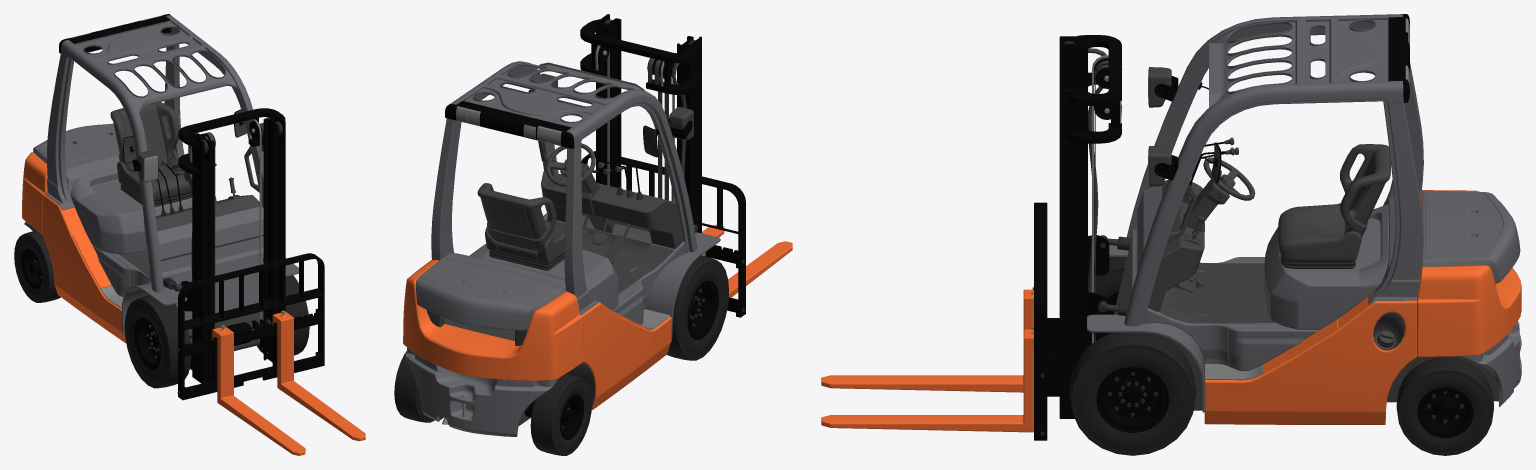
3 views of the same model, side by side, from view 1: azimuth 30°, elevation 25°; view 2: azimuth 150°, elevation 25°; view 3: azimuth 270°, elevation 25° (orthographic). The views are drawn at different scales.
Parts seen in each view (by area): view 1: AM98_011_forklift, AM98_011_forklift_carpaint_black, AM98_011_forklift_carpaint, AM98_011_forklift_black_plastic, AM98_011_forklift_rire_fr, AM98_011_forklift_tire_rr, AM98_011_forklift_rim_fr, AM98_011_forklift_tire_fl, AM98_011_forklift_black_shiny, AM98_011_forklift_rim_rr, AM98_011_forklift_chain, AM98_011_forklift_rubber; view 2: AM98_011_forklift, AM98_011_forklift_carpaint, AM98_011_forklift_black_plastic, AM98_011_forklift_carpaint_black, AM98_011_forklift_rire_fr, AM98_011_forklift_tire_rr, AM98_011_forklift_rubber, AM98_011_forklift_tire_rl, AM98_011_forklift_rim_fr, AM98_011_forklift_rim_rr, AM98_011_forklift_black_shiny, AM98_011_forklift_chain (+2 smaller); view 3: AM98_011_forklift, AM98_011_forklift_carpaint, AM98_011_forklift_carpaint_black, AM98_011_forklift_black_plastic, AM98_011_forklift_tire_fl, AM98_011_forklift_tire_rl, AM98_011_forklift_rubber, AM98_011_forklift_rim_fl, AM98_011_forklift_rim_rl, AM98_011_forklift_black_shiny, AM98_011_forklift_rire_fr.
Part boxes in pixels (bbox=[...]): AM98_011_forklift: bbox=[24, 15, 298, 334]; AM98_011_forklift_carpaint_black: bbox=[59, 14, 324, 400]; AM98_011_forklift_carpaint: bbox=[22, 152, 365, 455]; AM98_011_forklift_black_plastic: bbox=[26, 102, 263, 350]; AM98_011_forklift_rire_fr: bbox=[124, 295, 191, 388]; AM98_011_forklift_tire_rr: bbox=[14, 230, 60, 302]; AM98_011_forklift_rim_fr: bbox=[133, 317, 161, 369]; AM98_011_forklift_tire_fl: bbox=[257, 275, 309, 355]; AM98_011_forklift_black_shiny: bbox=[120, 121, 282, 394]; AM98_011_forklift_rim_rr: bbox=[21, 248, 42, 288]; AM98_011_forklift_chain: bbox=[195, 119, 261, 341]; AM98_011_forklift_rubber: bbox=[119, 250, 150, 277]; AM98_011_forklift: bbox=[405, 61, 720, 436]; AM98_011_forklift_carpaint: bbox=[403, 224, 792, 409]; AM98_011_forklift_black_plastic: bbox=[426, 58, 693, 426]; AM98_011_forklift_carpaint_black: bbox=[445, 14, 745, 317]; AM98_011_forklift_rire_fr: bbox=[667, 255, 728, 360]; AM98_011_forklift_tire_rr: bbox=[530, 373, 591, 455]; AM98_011_forklift_rubber: bbox=[555, 221, 673, 293]; AM98_011_forklift_tire_rl: bbox=[394, 351, 434, 422]; AM98_011_forklift_rim_fr: bbox=[687, 280, 718, 339]; AM98_011_forklift_rim_rr: bbox=[524, 394, 584, 439]; AM98_011_forklift_black_shiny: bbox=[489, 19, 744, 311]; AM98_011_forklift_chain: bbox=[595, 45, 674, 201]; AM98_011_forklift: bbox=[1087, 14, 1521, 412]; AM98_011_forklift_carpaint: bbox=[821, 190, 1521, 432]; AM98_011_forklift_carpaint_black: bbox=[1034, 14, 1409, 440]; AM98_011_forklift_black_plastic: bbox=[1088, 48, 1498, 410]; AM98_011_forklift_tire_fl: bbox=[1069, 332, 1195, 455]; AM98_011_forklift_tire_rl: bbox=[1396, 357, 1493, 455]; AM98_011_forklift_rubber: bbox=[1160, 263, 1275, 323]; AM98_011_forklift_rim_fl: bbox=[1096, 366, 1169, 432]; AM98_011_forklift_rim_rl: bbox=[1417, 387, 1473, 438]; AM98_011_forklift_black_shiny: bbox=[1040, 41, 1394, 435]; AM98_011_forklift_rire_fr: bbox=[1088, 257, 1127, 297].
Bounding box in the file's own units: 120 × 212 × 371.
